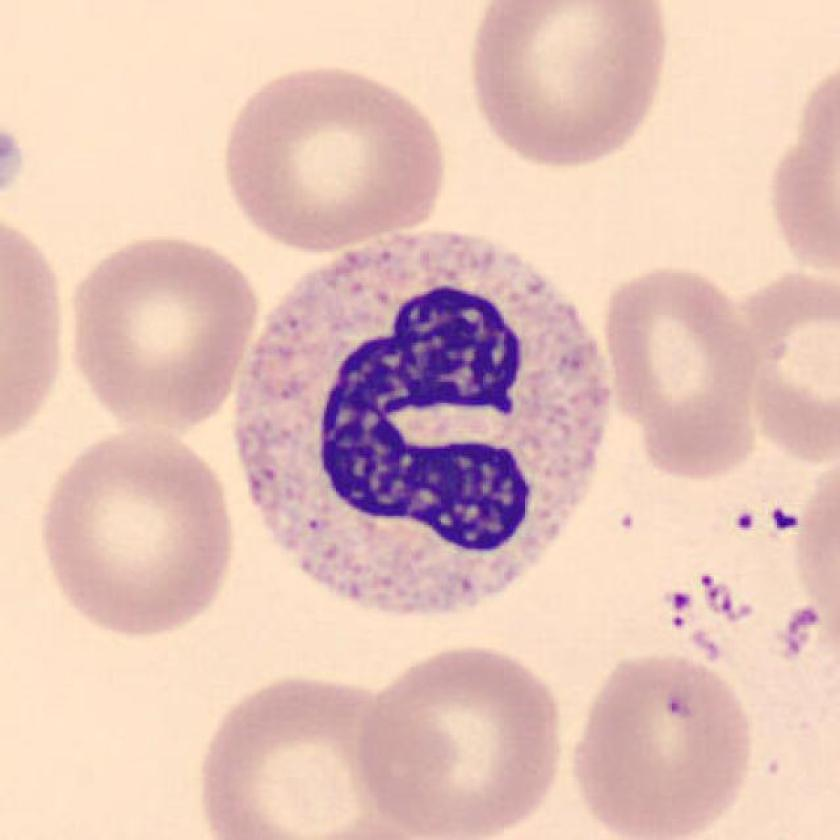neutrophil: (237, 234, 610, 617)
